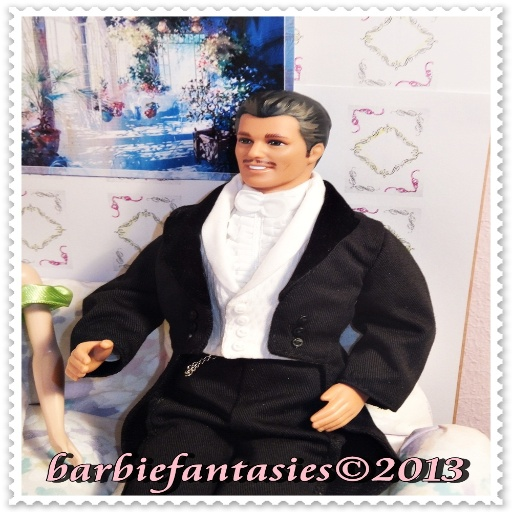hand: (309, 381, 367, 433), (61, 338, 116, 381)
